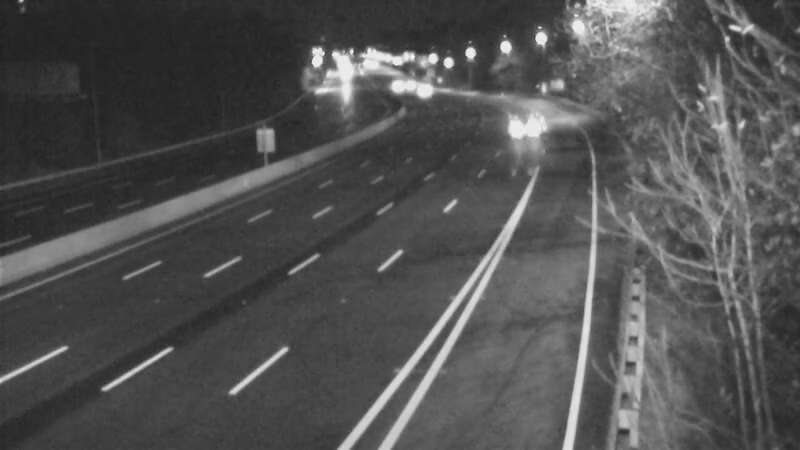vehicle: (385, 59, 435, 109), (368, 61, 418, 111), (394, 66, 444, 116), (503, 88, 553, 138)
